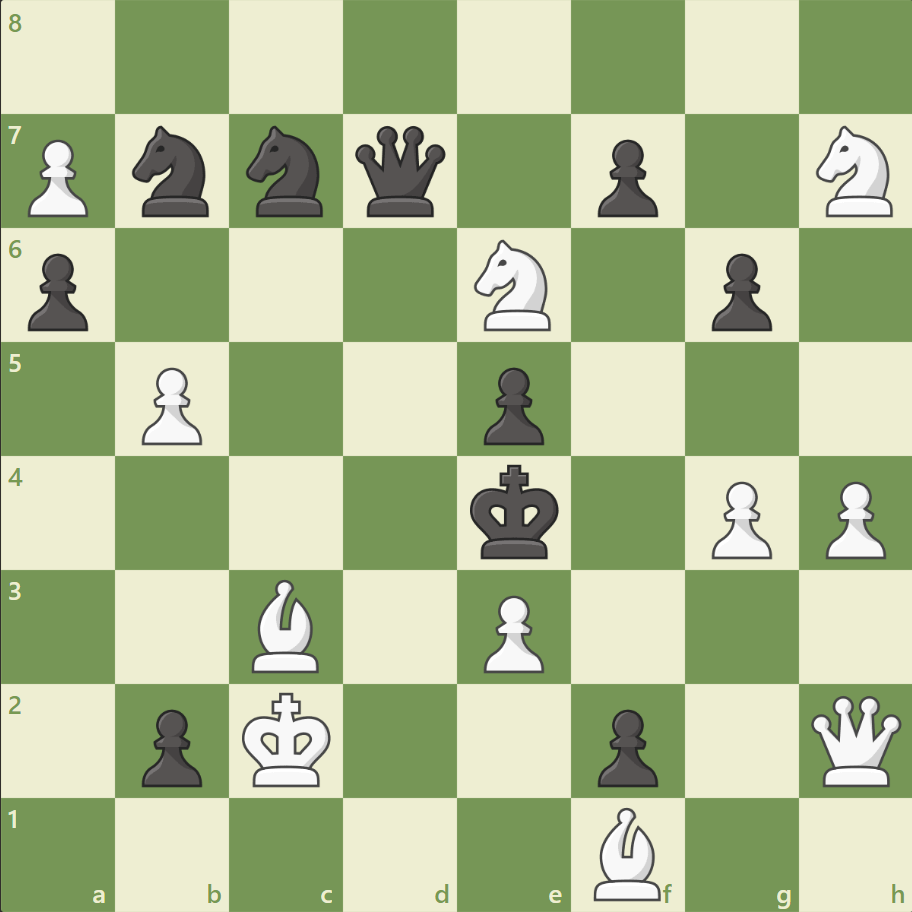B: (585, 801, 669, 904), (244, 574, 328, 676)
K: (238, 685, 338, 793)
N: (465, 234, 562, 337), (806, 121, 903, 223)
P: (20, 132, 95, 223), (133, 359, 208, 450), (701, 473, 776, 564), (474, 586, 549, 677), (815, 473, 889, 564)
Q: (805, 690, 904, 789)
k: (465, 458, 565, 566)
n: (124, 121, 222, 223), (238, 121, 335, 223)
p: (20, 246, 95, 337), (701, 246, 776, 337), (474, 359, 549, 450), (133, 700, 208, 791), (588, 132, 662, 223), (588, 700, 662, 791)
q: (351, 122, 450, 222)
